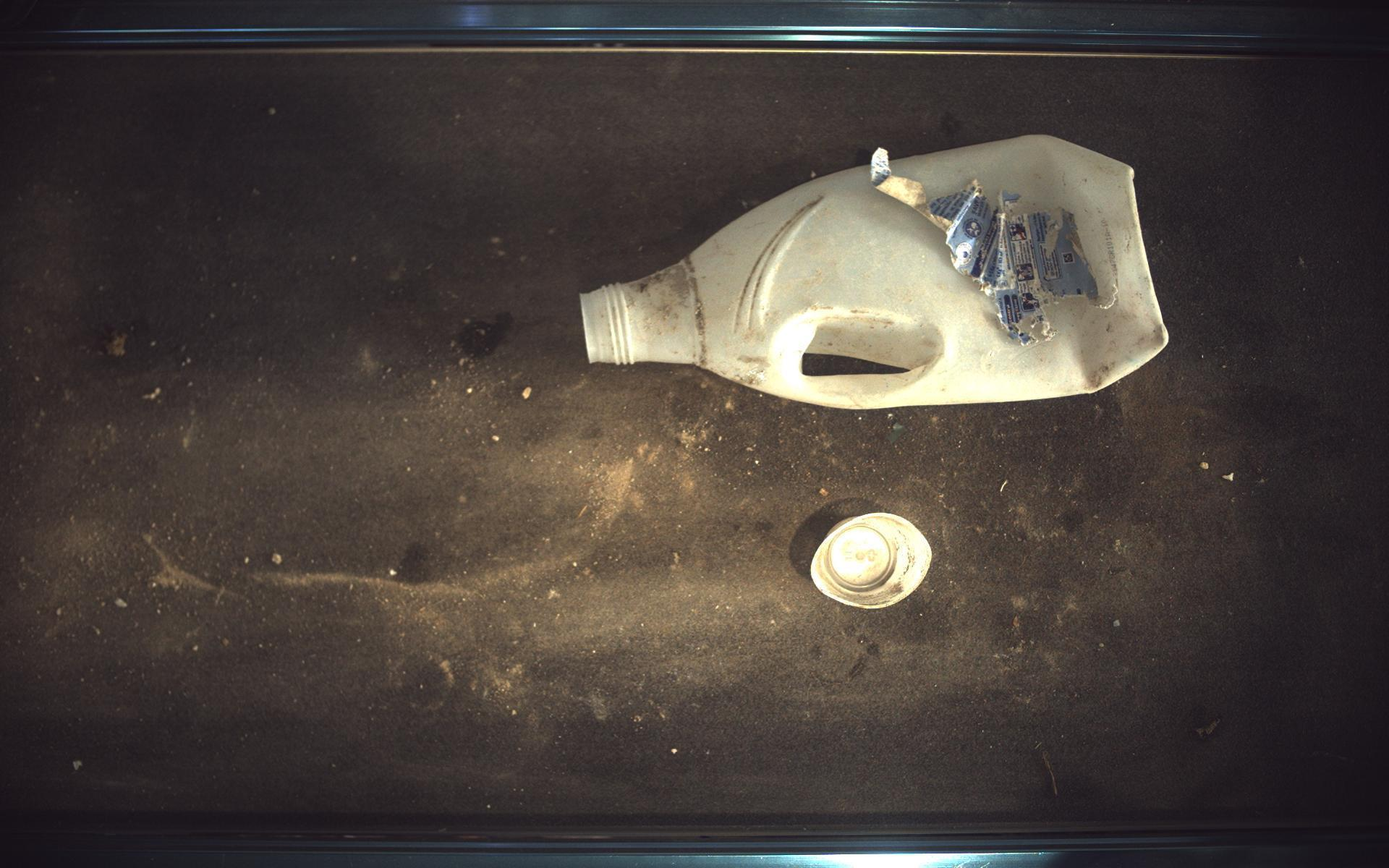general_w: (582, 134, 1171, 409), (812, 513, 934, 610)
